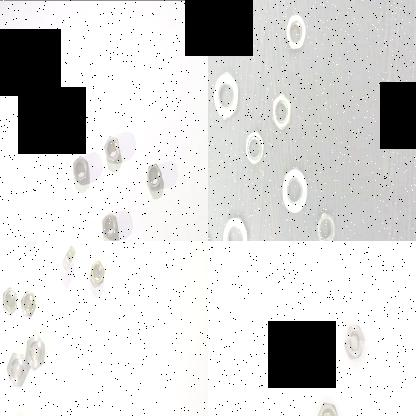NUTS: (210, 67, 243, 127), (279, 161, 311, 213), (266, 86, 297, 138), (282, 12, 310, 57), (242, 123, 264, 173), (24, 331, 47, 377), (4, 348, 26, 396), (342, 320, 366, 362), (313, 207, 341, 241), (221, 209, 249, 241), (68, 152, 90, 188), (98, 206, 120, 241), (102, 130, 122, 168), (88, 255, 106, 295), (57, 241, 77, 274), (18, 285, 37, 319), (265, 341, 284, 372), (0, 282, 16, 316), (144, 162, 162, 192), (313, 398, 341, 416)
